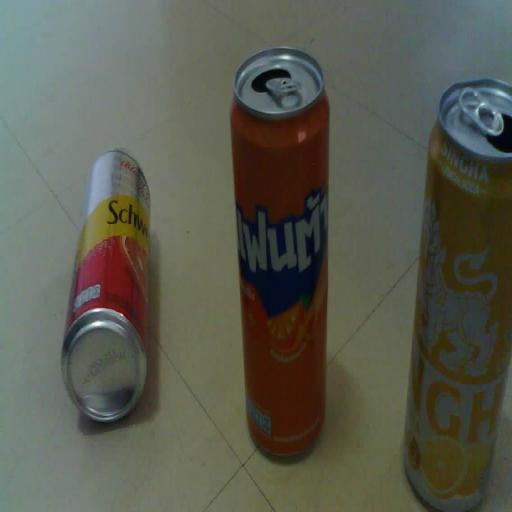canned: (395, 67, 512, 511), (226, 39, 336, 465), (43, 137, 166, 435)
